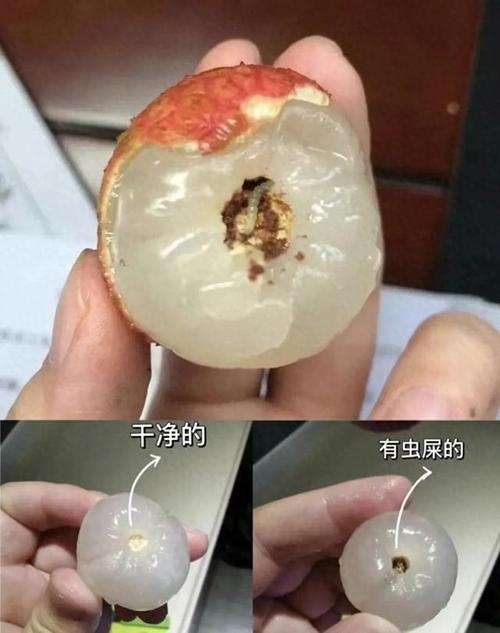Borer: (249, 166, 268, 235)
